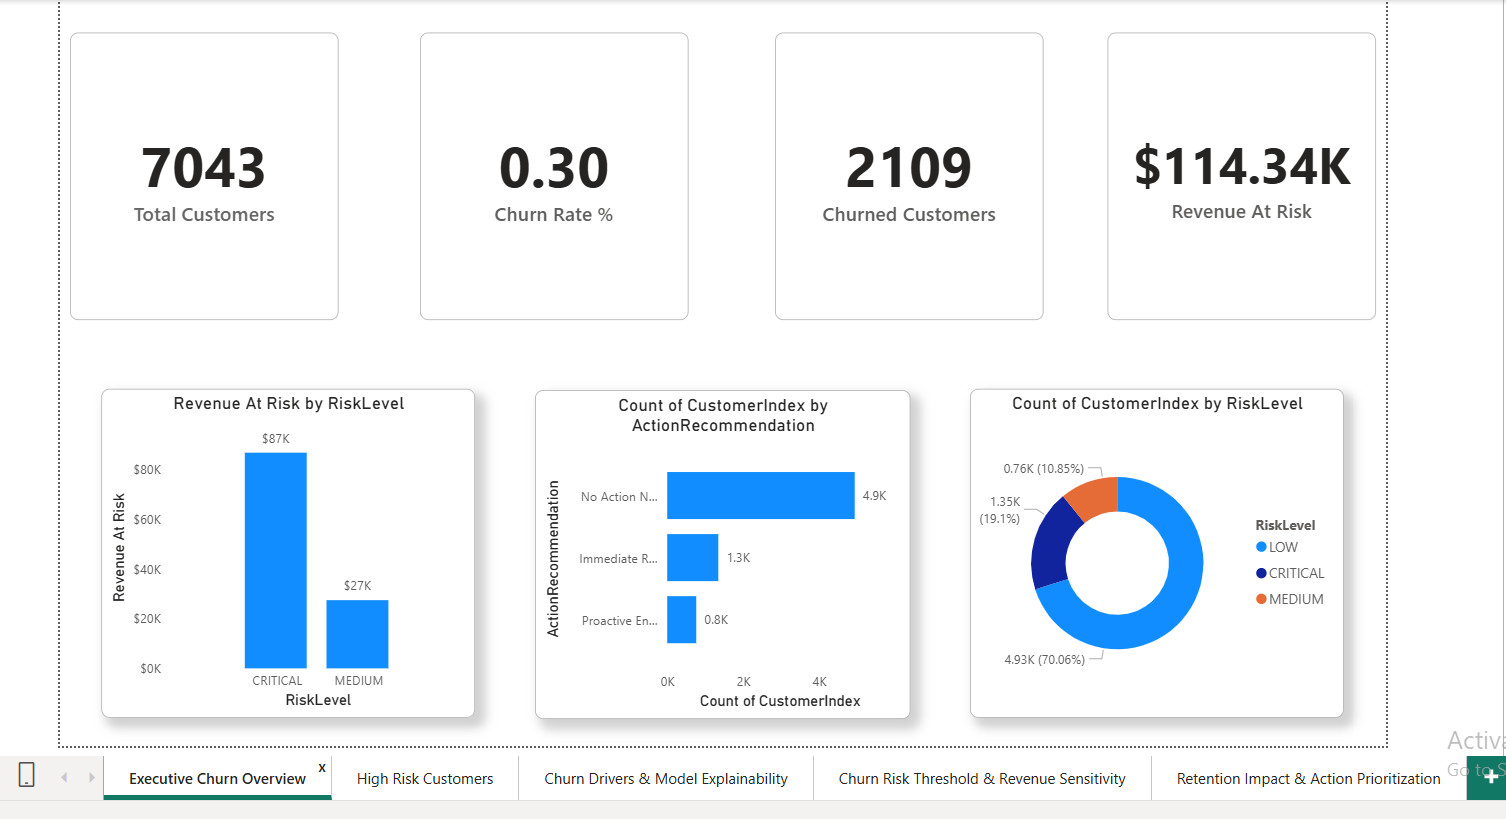

The dashboard page shown, as its layout file describes it:
{"tool":"powerbi","page":{"name":"Executive Churn Overview","canvas":[1280,720],"ordinal":0},"visuals":[{"type":"card","fields":{"Values":["customer_churn_predictions_enriched.Total Customers"]},"box":[9.7,31.4,259.4,277.5],"z":0},{"type":"card","fields":{"Values":["customer_churn_predictions_enriched.Churned Customers"]},"box":[690.1,31.4,259.4,277.5],"z":1000},{"type":"card","fields":{"Values":["customer_churn_predictions_enriched.Churn Rate %"]},"box":[347.5,31.4,259.4,277.5],"z":2000},{"type":"card","fields":{"Values":["customer_churn_predictions_enriched.Revenue At Risk"]},"box":[1011,31.4,259.4,277.5],"z":3000},{"type":"donutChart","fields":{"Y":["CountNonNull(customer_churn_predictions_enriched.CustomerIndex)"],"Category":["customer_churn_predictions.RiskLevel"]},"box":[878,374.9,360.6,317.9],"z":4000},{"type":"barChart","fields":{"Category":["customer_churn_predictions_enriched.ActionRecommendation"],"Y":["CountNonNull(customer_churn_predictions_enriched.CustomerIndex)"]},"box":[459,376.3,362,317.9],"z":5000},{"type":"clusteredColumnChart","fields":{"Y":["customer_churn_predictions_enriched.Revenue At Risk"],"Category":["customer_churn_predictions.RiskLevel"]},"box":[39.9,374.9,360.6,317.9],"z":6000}]}

Visuals, with their boxes on the page's 1280x720 design canvas (x1, y1, x2, y2). These are canvas units, not pixel positions in the 1506x819 screenshot, which may show the page scaled, cropped or inside an application window:
card - customer_churn_predictions_enriched.Total Customers: box(10, 31, 269, 309)
card - customer_churn_predictions_enriched.Churned Customers: box(690, 31, 950, 309)
card - customer_churn_predictions_enriched.Churn Rate %: box(348, 31, 607, 309)
card - customer_churn_predictions_enriched.Revenue At Risk: box(1011, 31, 1270, 309)
donutChart - CountNonNull(customer_churn_predictions_enriched.CustomerIndex) x customer_churn_predictions.RiskLevel: box(878, 375, 1239, 693)
barChart - customer_churn_predictions_enriched.ActionRecommendation x CountNonNull(customer_churn_predictions_enriched.CustomerIndex): box(459, 376, 821, 694)
clusteredColumnChart - customer_churn_predictions_enriched.Revenue At Risk x customer_churn_predictions.RiskLevel: box(40, 375, 400, 693)
